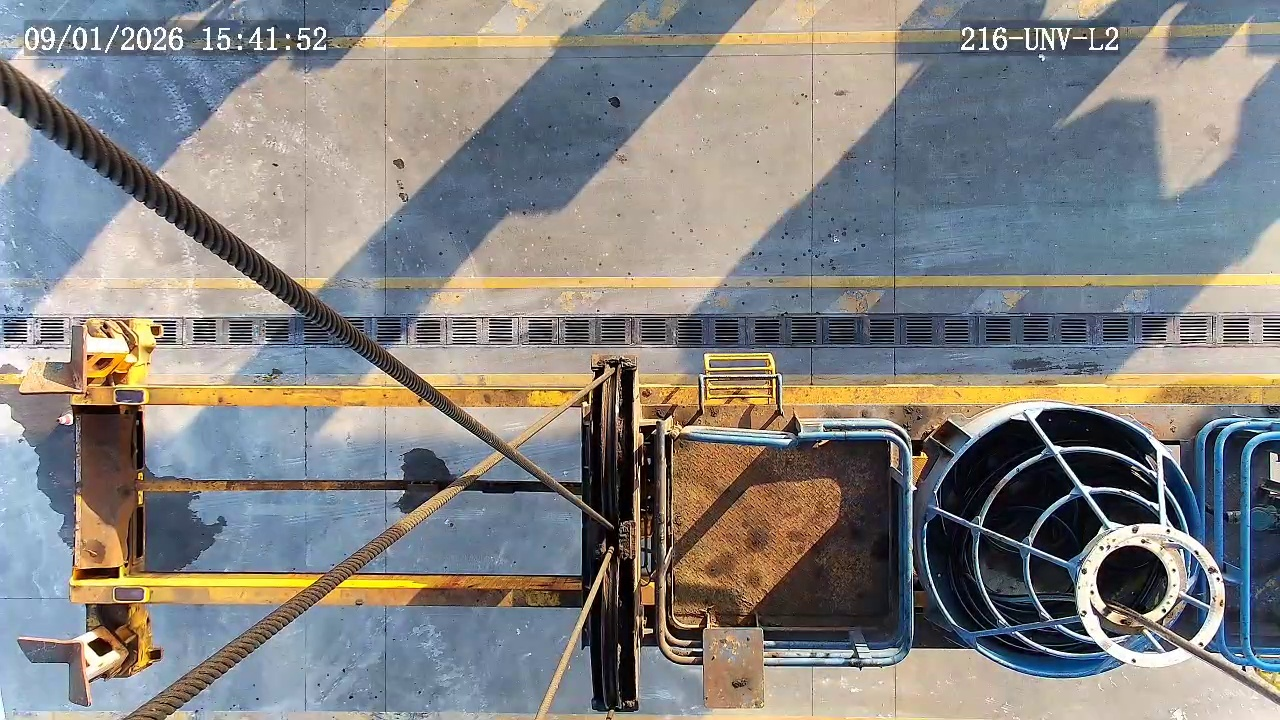left: (1076, 522, 1225, 669)
